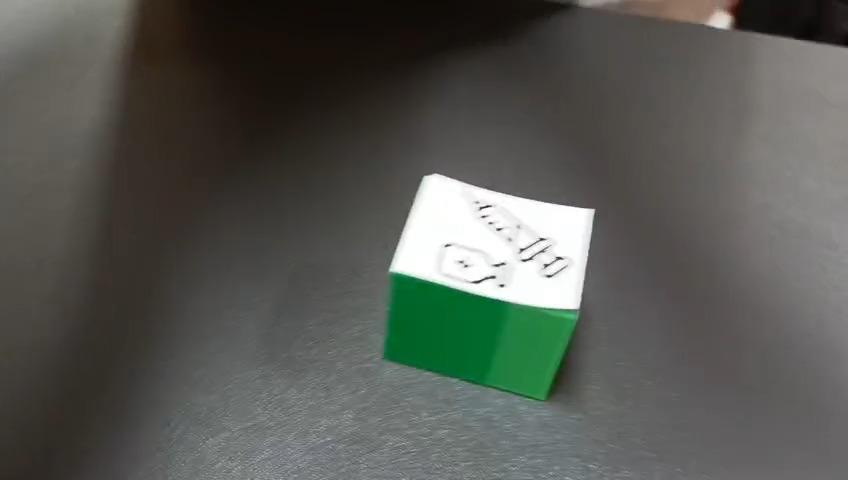antiseptic cream: (380, 171, 597, 401)
